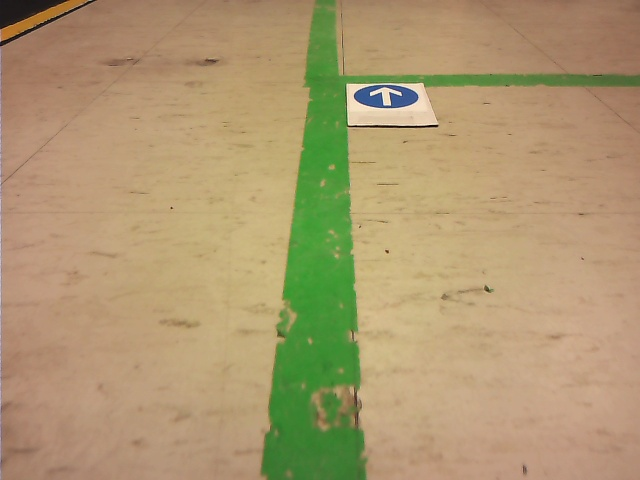GO FORWARD: (355, 85, 418, 108)
